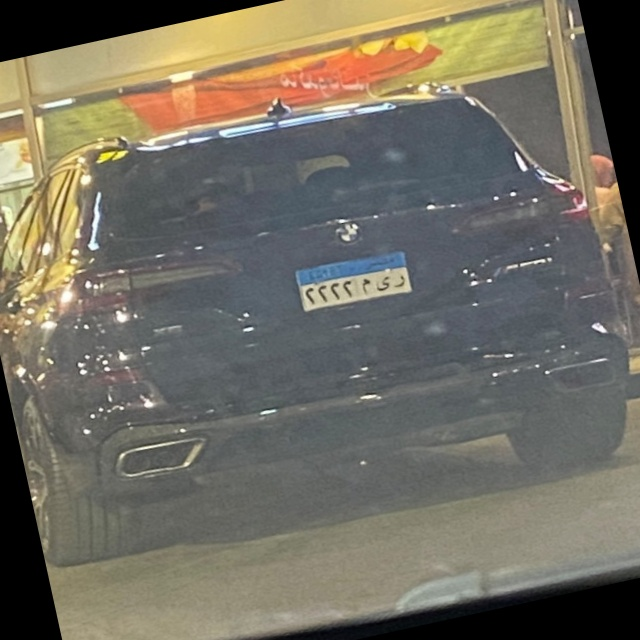License Plate: (293, 245, 415, 317)
